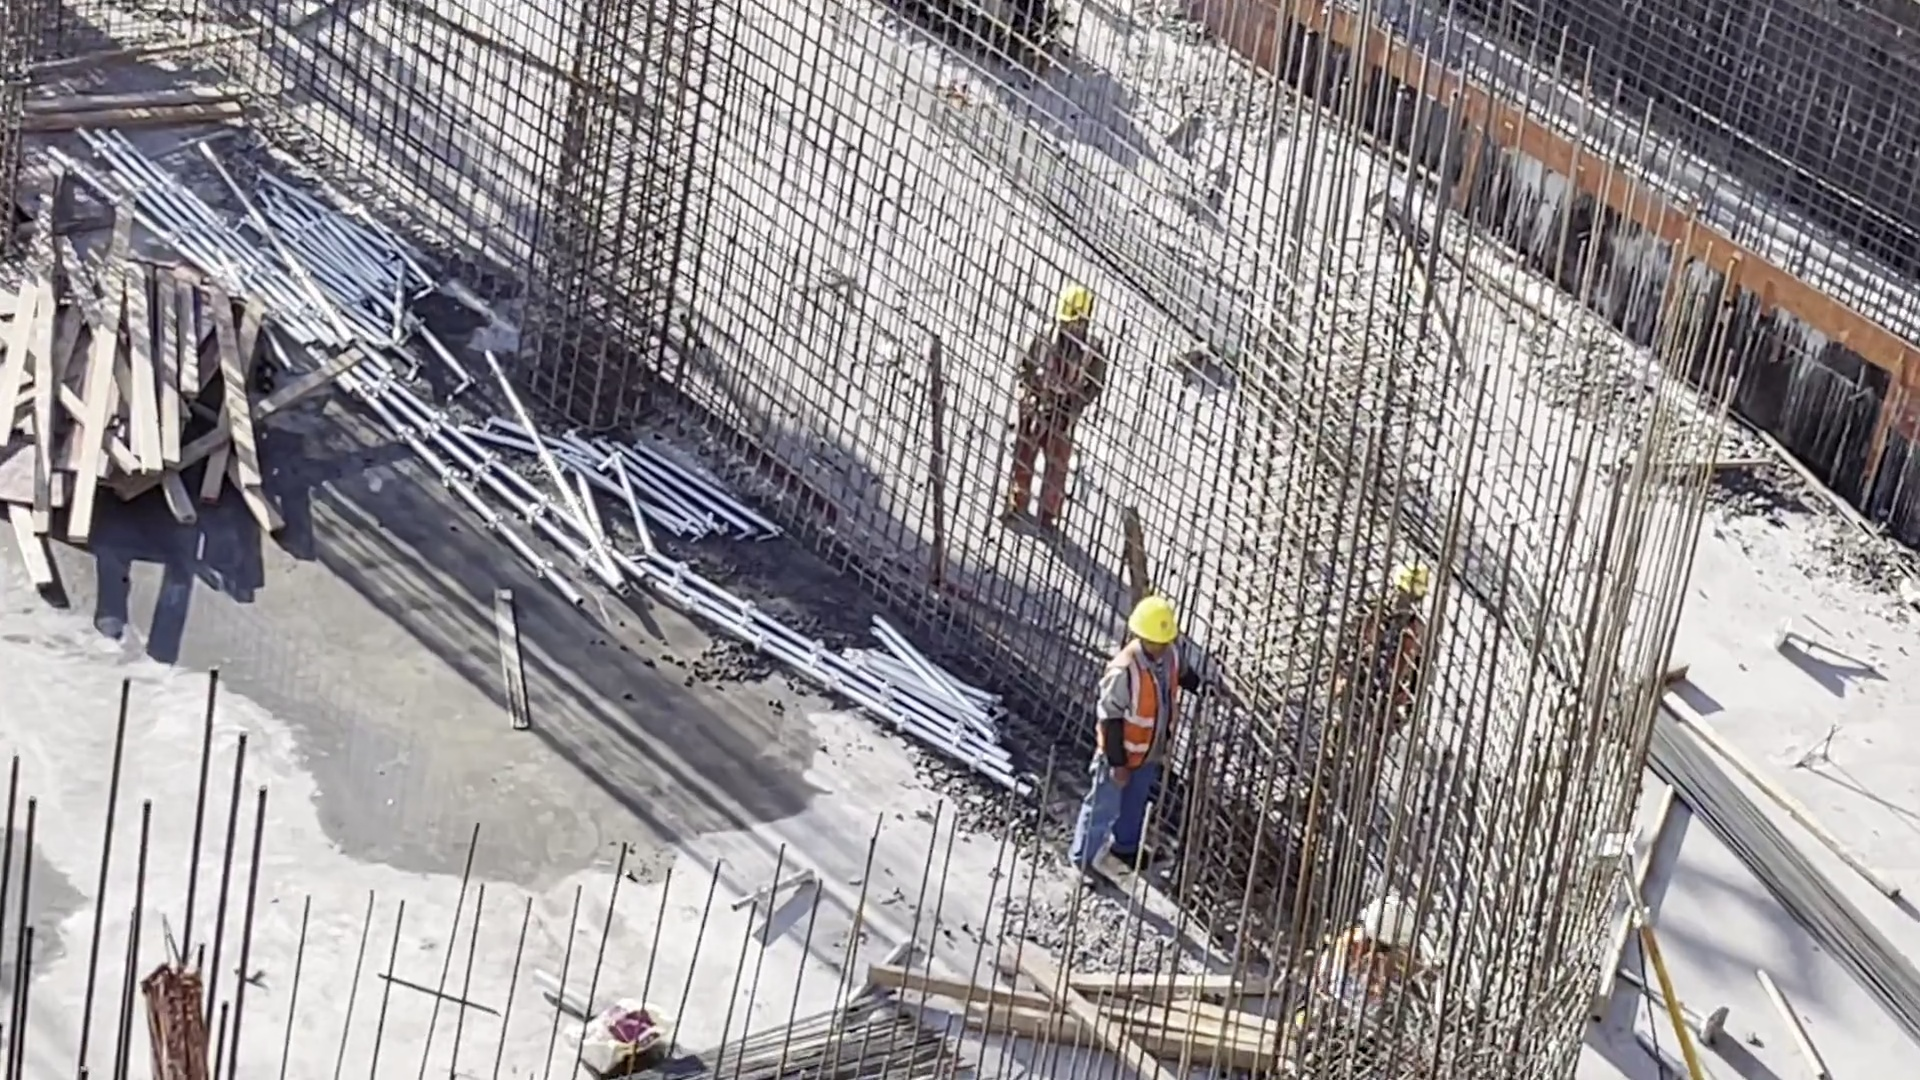helmet: (1360, 895, 1421, 952), (1132, 597, 1177, 660), (1369, 560, 1437, 600), (1058, 289, 1101, 334)
person: (1069, 590, 1185, 869), (1006, 285, 1111, 530), (1347, 548, 1430, 819), (1330, 893, 1445, 1015)
rebar: (1625, 690, 1920, 1064), (663, 978, 962, 1080)
scaffold: (145, 138, 461, 349), (796, 607, 1047, 807), (533, 400, 764, 594)
vest: (1112, 640, 1185, 764), (1032, 329, 1101, 444), (1357, 602, 1418, 701), (1331, 940, 1409, 1008)
wood: (1, 216, 261, 597)
